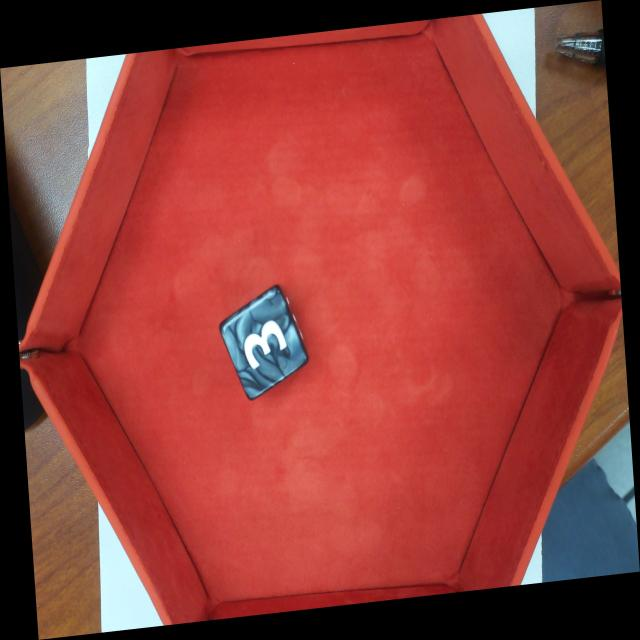dice: (219, 286, 309, 398)
